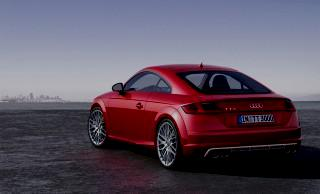Audi: (246, 99, 268, 113)
